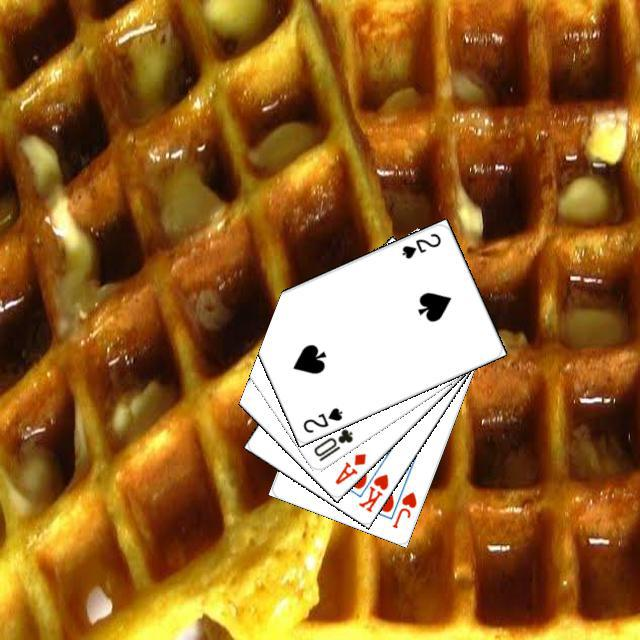10c: (309, 424, 355, 463)
2s: (298, 402, 344, 435), (397, 228, 443, 260)
Ad: (330, 448, 367, 486)
Jh: (387, 487, 418, 530)
Kh: (352, 460, 390, 514)
